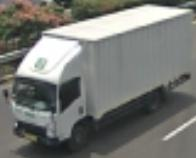truck: (1, 36, 96, 155)
